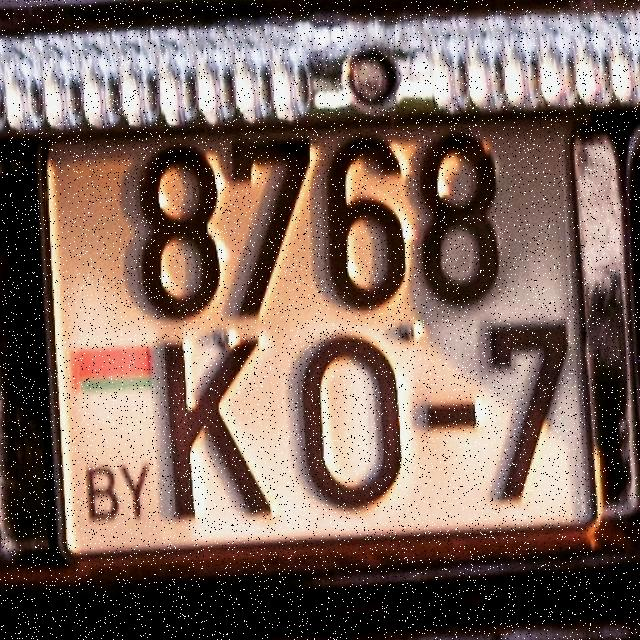licenseplate: (38, 113, 632, 575)
